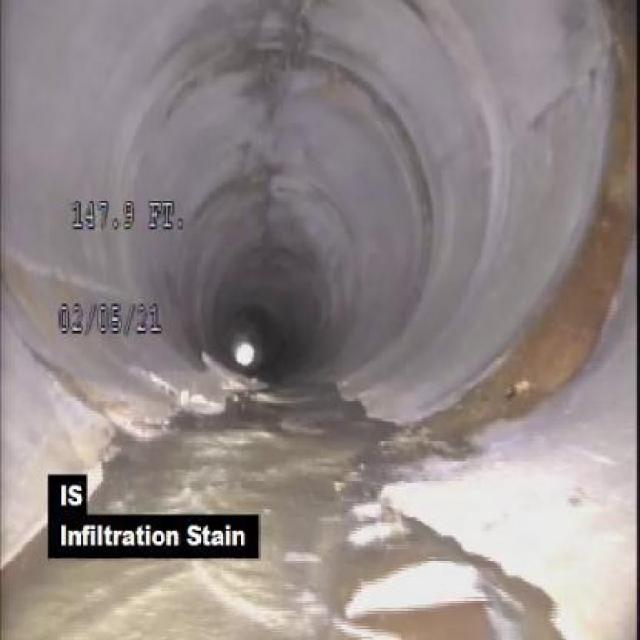Hole: (168, 343, 278, 442)
